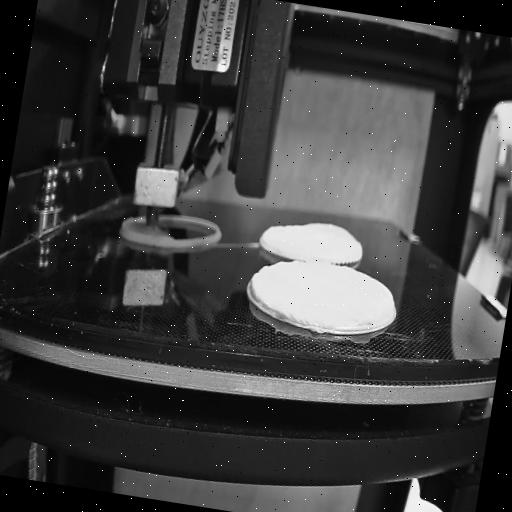over_extrusion: (246, 270, 268, 308)
